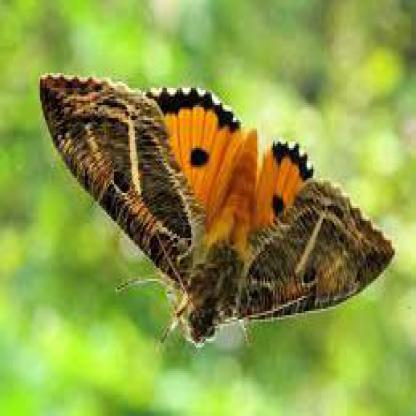fruit sucking moth: (39, 71, 396, 349)
